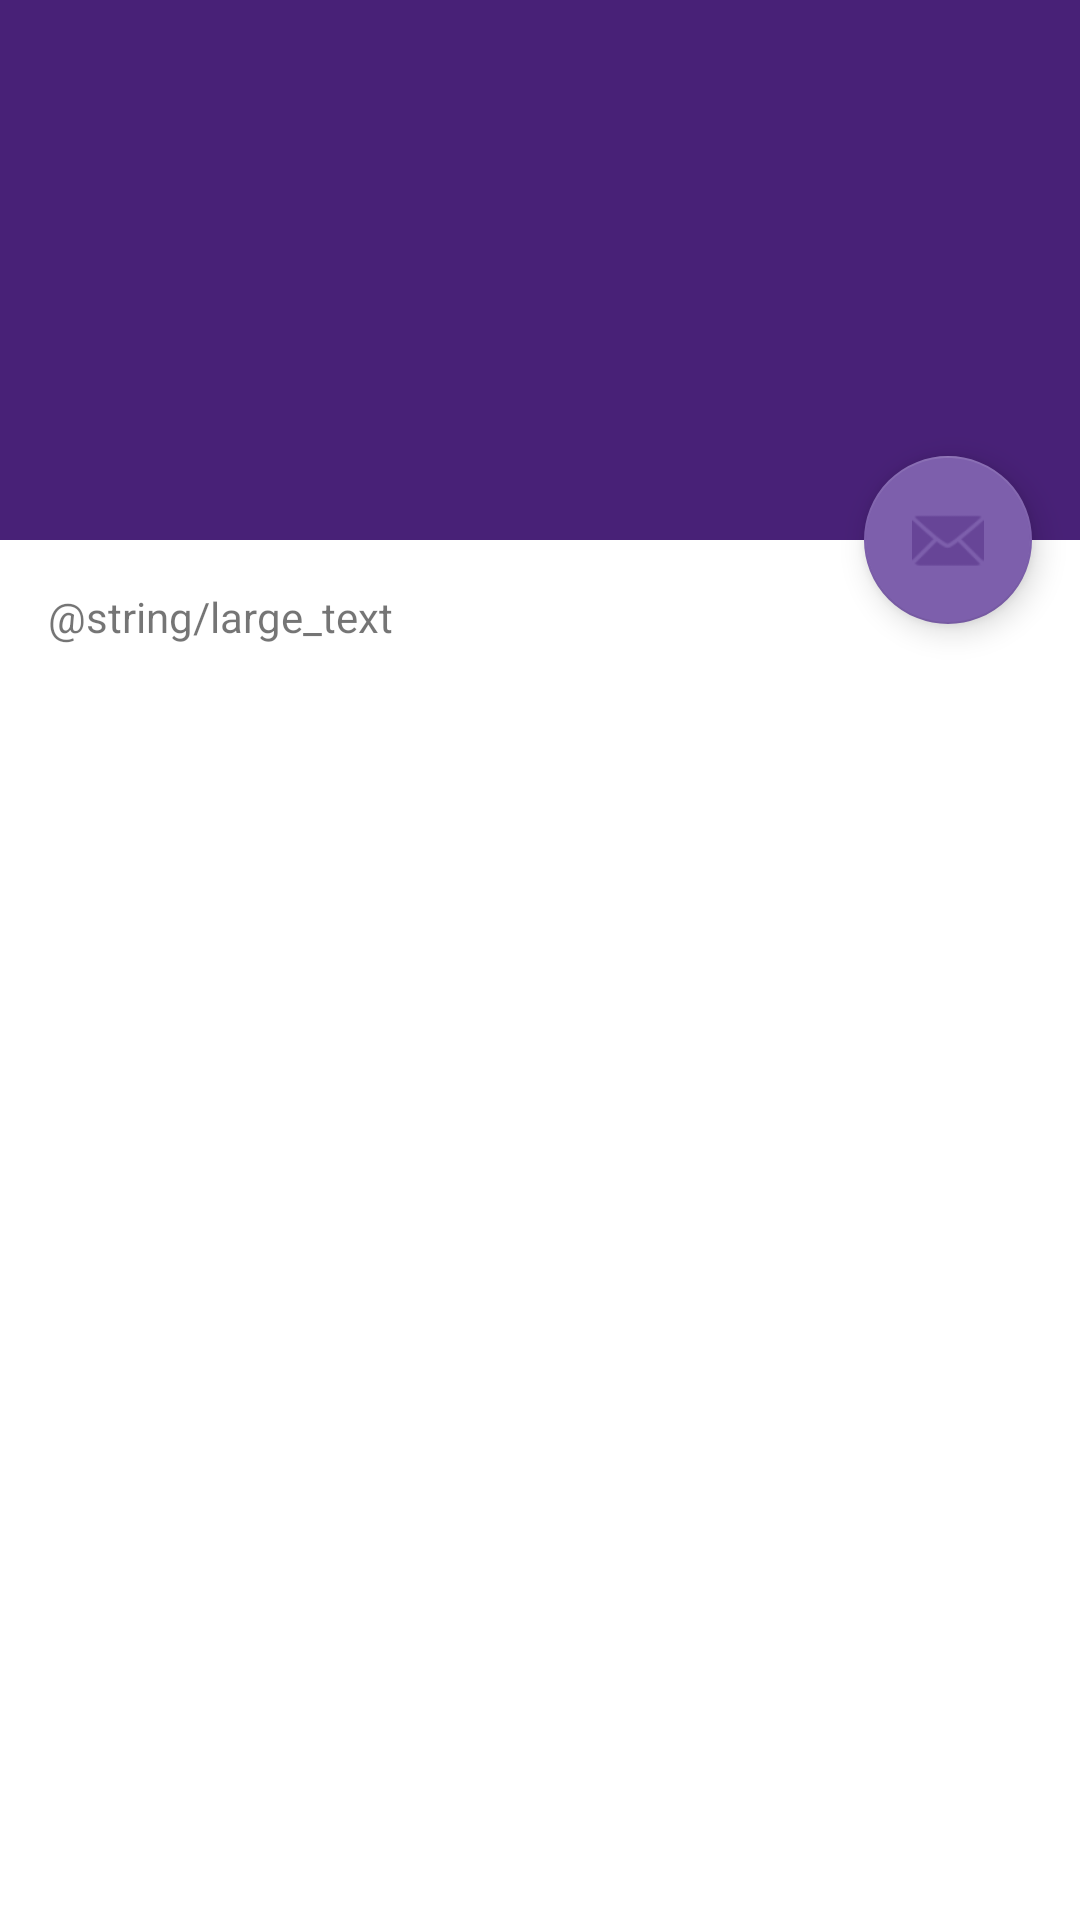

Screen size 1080px x 1920px. Icon name, then its center in pixels as [x,y]:
email: [948,540]
